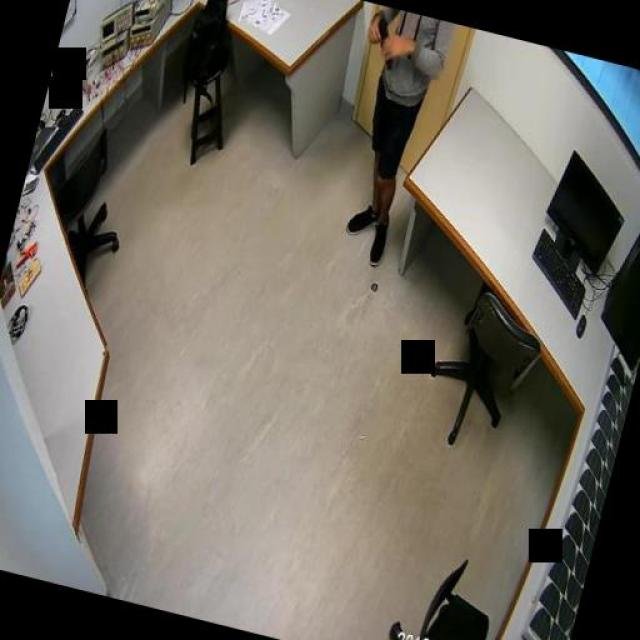gun: (365, 12, 403, 68)
